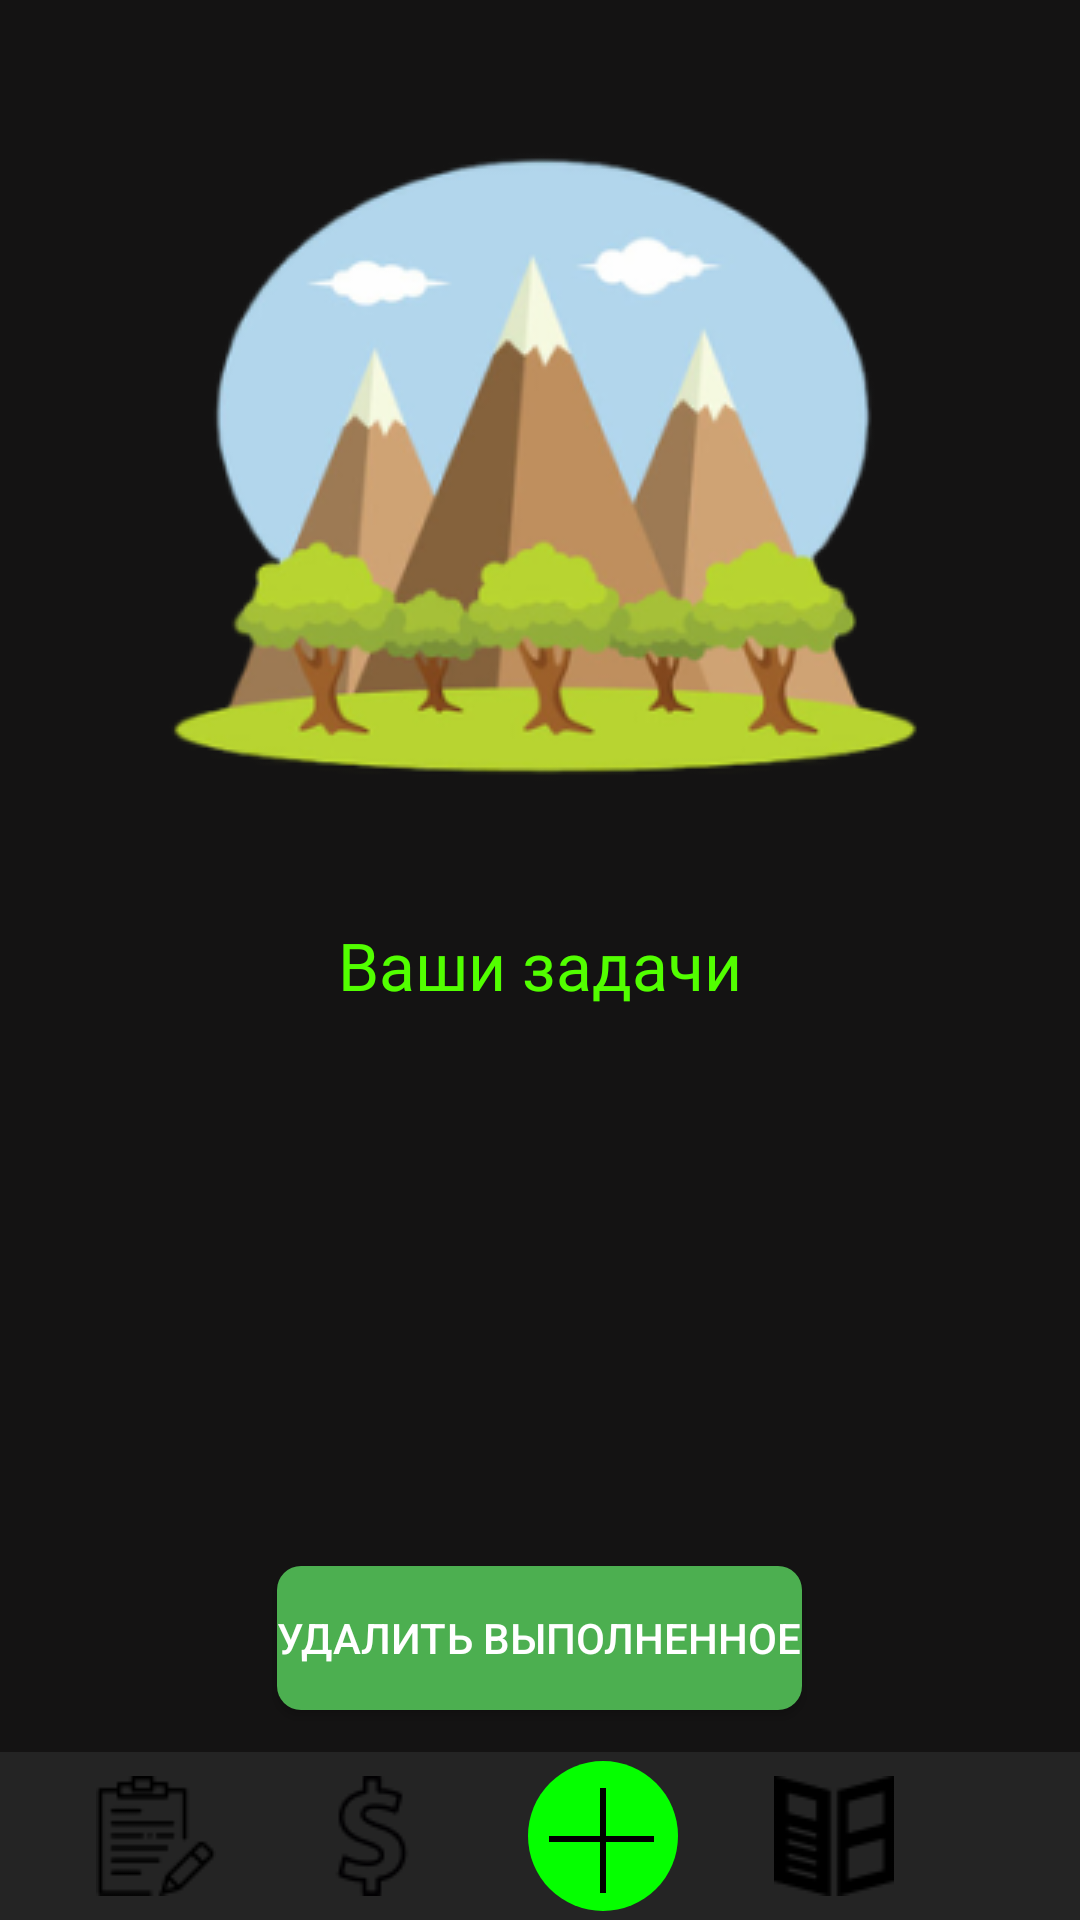

Icon click points for this 1080 x 1920 phone screenshot, format (x,y):
book: (834,1836)
dollar: (372,1836)
notepad: (156,1836)
plus: (603,1836)
